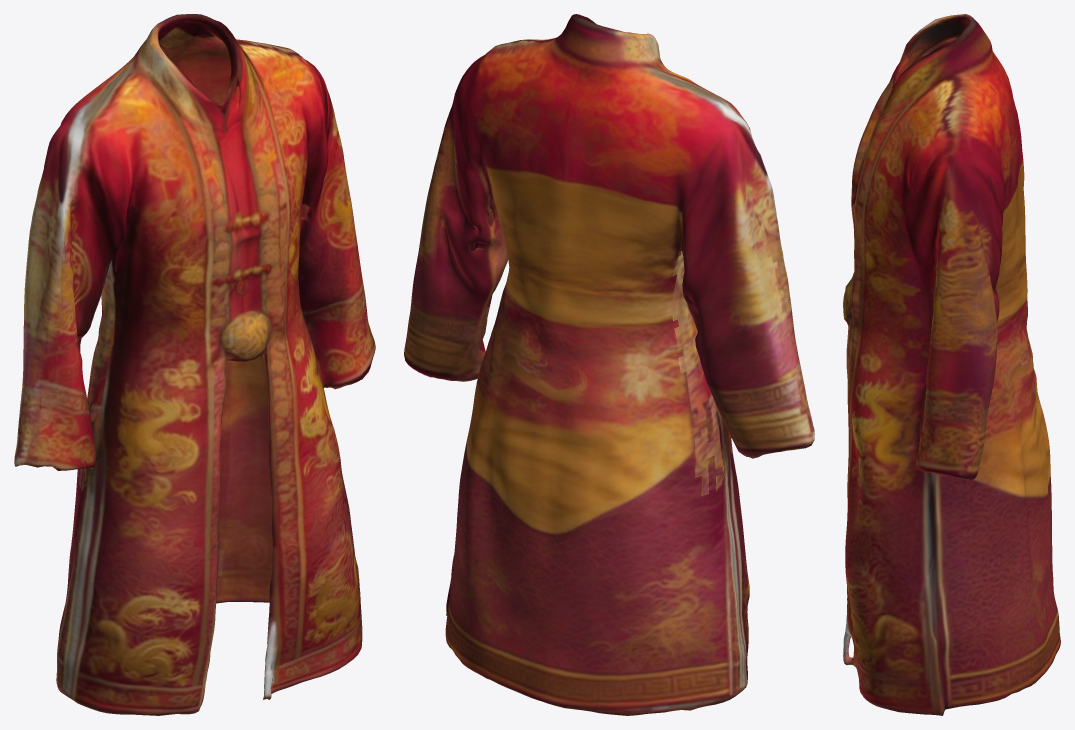
The picture shows the model from 3 angles, left to right: view 1: azimuth 30°, elevation 25°; view 2: azimuth 150°, elevation 25°; view 3: azimuth 270°, elevation 25°; orthographic projection. The views are drawn at different scales.
Visible parts, largest first — view 1: Mesh_0; view 2: Mesh_0; view 3: Mesh_0.
Part boxes in pixels (<box>): Mesh_0: <box>14,14,375,715</box>; Mesh_0: <box>404,14,814,715</box>; Mesh_0: <box>843,14,1060,715</box>.
Bounding box in the file's own units: 1.22 × 2 × 0.6212.
Materials: 1 (1 with a texture image).
